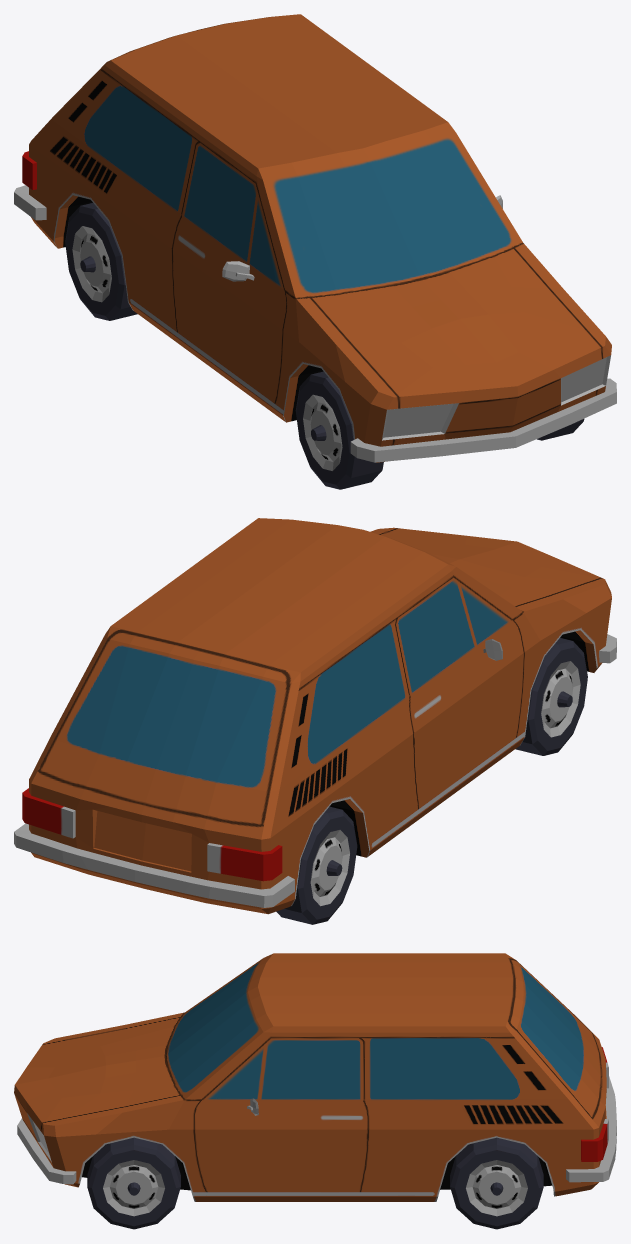
File: Carro.fbx
The picture shows the model from 3 angles, top to bottom: view 1: azimuth 30°, elevation 25°; view 2: azimuth 150°, elevation 25°; view 3: azimuth 270°, elevation 25°; orthographic projection. The views are drawn at different scales.
Parts seen in each view (by area): view 1: CarroVelho; view 2: CarroVelho; view 3: CarroVelho.
Part boxes in pixels (x1=…): CarroVelho: x1=14, y1=14, x2=616, y2=489; CarroVelho: x1=14, y1=518, x2=616, y2=924; CarroVelho: x1=14, y1=953, x2=616, y2=1229.
Bounding box in the file's own units: 186 × 160 × 440.
